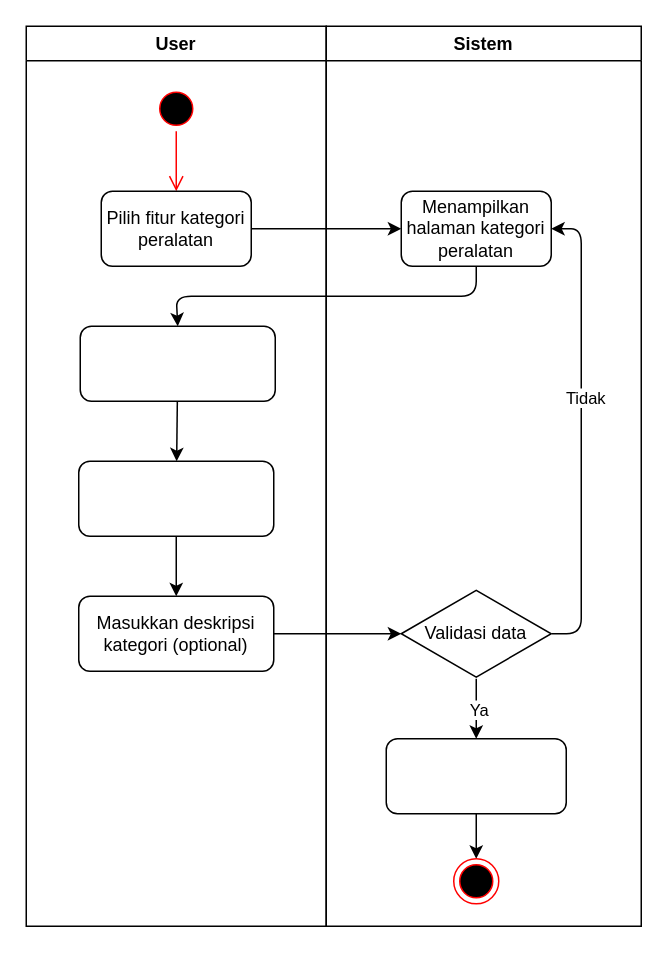
Image size: 668x953. Some labels were removed from this diagram. Each missing label, with the centre of its shape:
Masukkan nama kategori: point 177,363
Menyimpan data kategori peralatan: point 475,775
Pilih status: point 175,498
